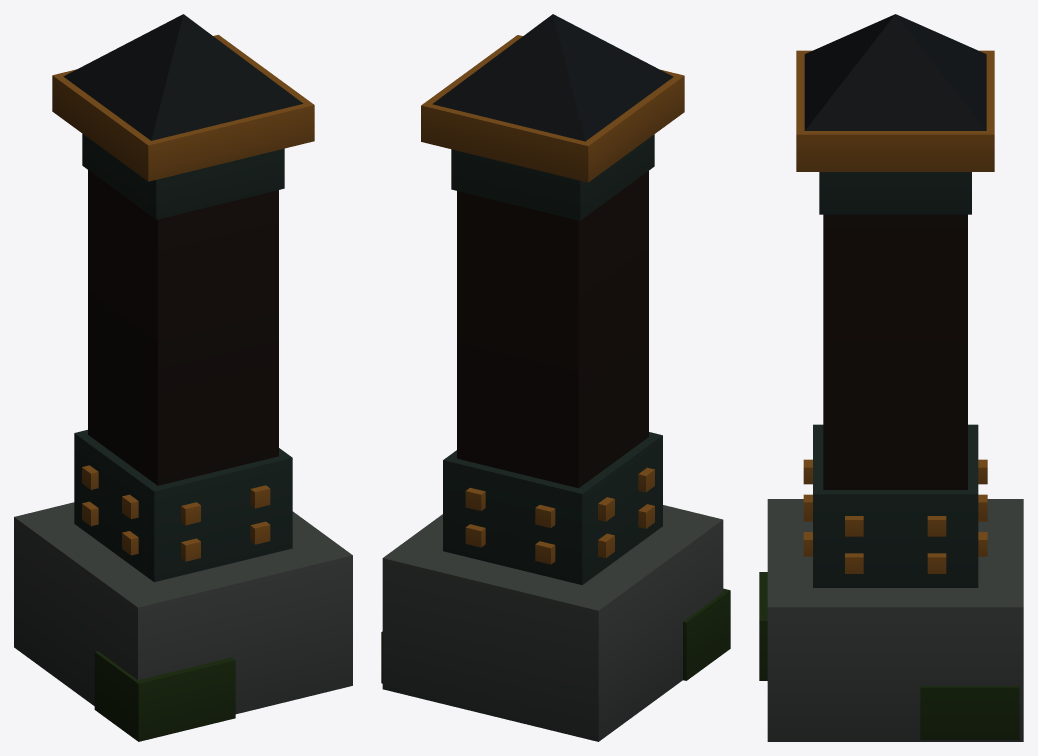
Rendered from guofeng_bridge_post.glb.
3 views of the same model, side by side, from view 1: azimuth 30°, elevation 25°; view 2: azimuth 150°, elevation 25°; view 3: azimuth 270°, elevation 25° (orthographic). The views are drawn at different scales.
Visible parts, largest first — view 1: BridgePost; view 2: BridgePost; view 3: BridgePost.
Part boxes in pixels (x1=…): BridgePost: x1=14, y1=14, x2=352, y2=741; BridgePost: x1=381, y1=14, x2=730, y2=741; BridgePost: x1=759, y1=14, x2=1023, y2=741.
Bounding box in the file's own units: 0.64 × 1.8 × 0.64.
